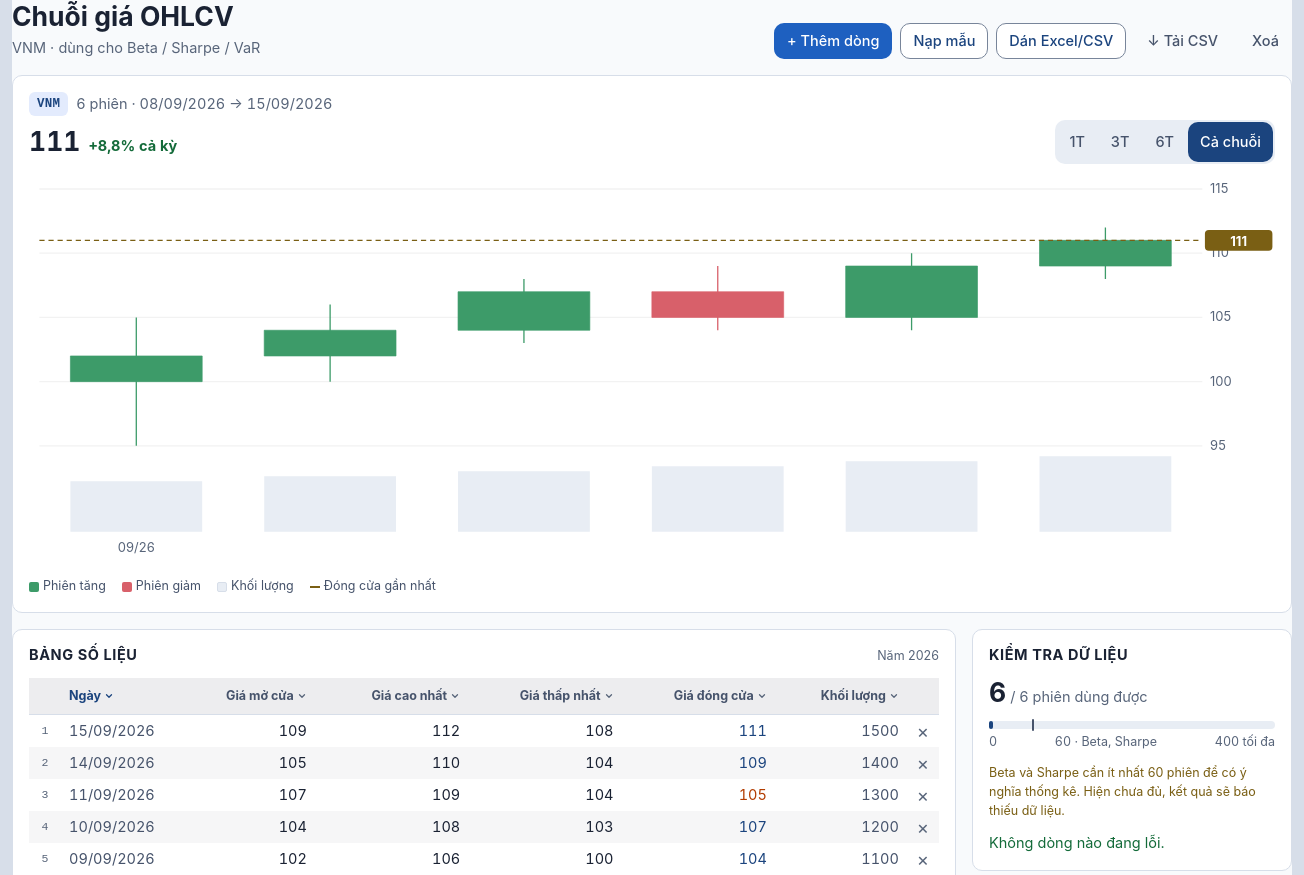
Scenario: DataTableScreen — dán và "Thêm dòng" cùng một luật ngày trùng › "Thêm dòng" rồi gõ cùng ngày ấy thì bảng cũng báo trùng — một luật cho hai thao tác
expect the field named "Dòng 1 · Đóng" is shown: met, box [622,715,775,747]
Click the button "+ Thêm dòng".
click(833, 41)  # box [774,23,892,59]
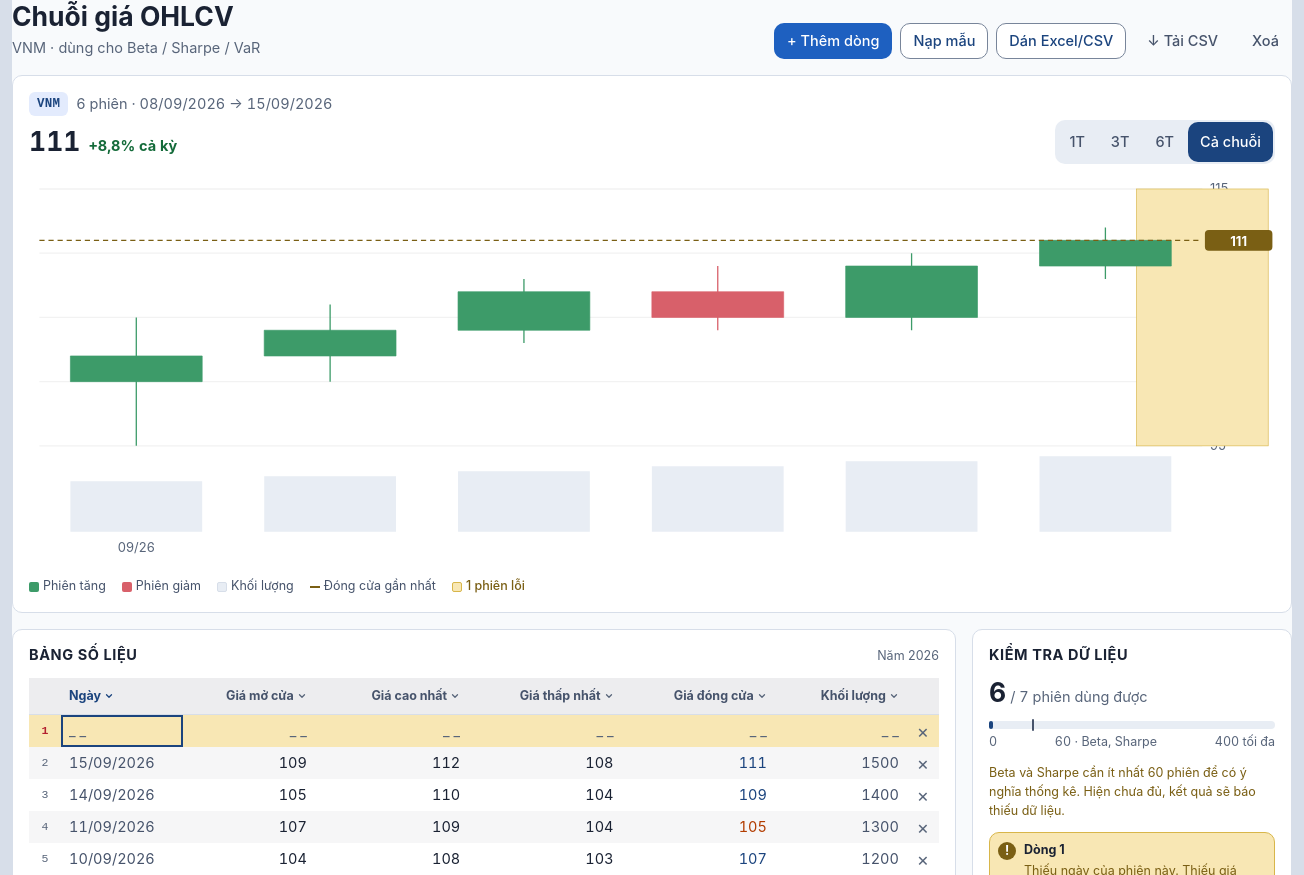
Type "15/09/2026" into the field named "Dòng 1 · Ngày".
click(122, 731); type("15/09/2026")  # box [61,715,183,747]
(page scrolled)
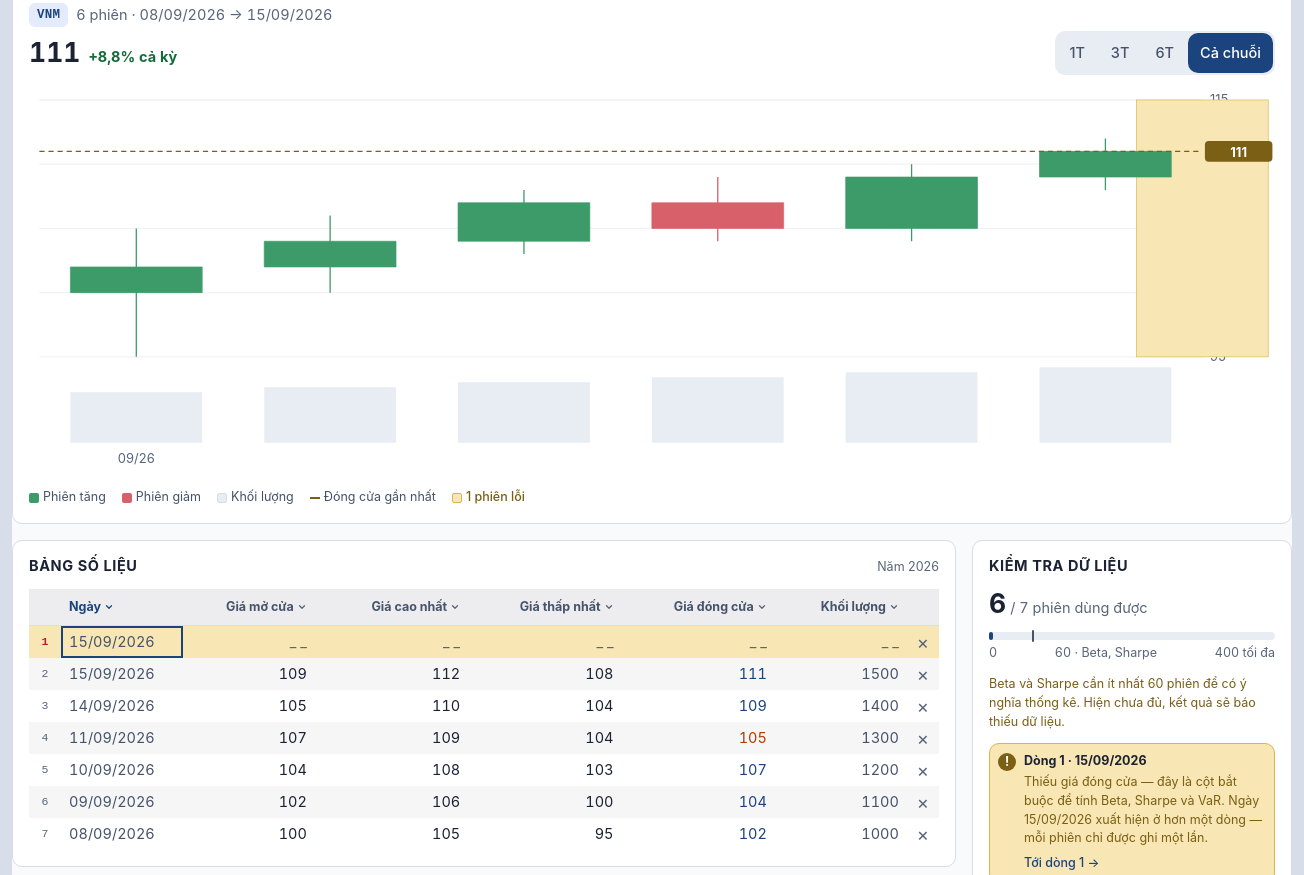
expect the text "Ngày 15/09/2026 xuất hiện ở hơn một dòng" is shown: met, box [1024,774,1262,845]
